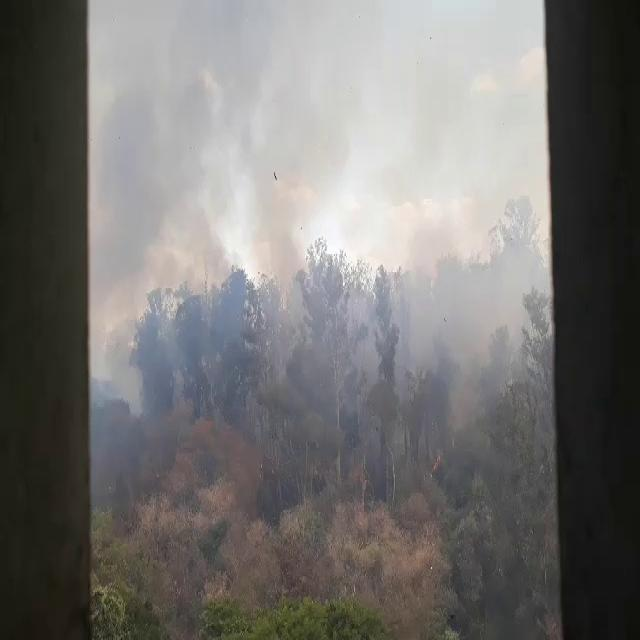Fire: (430, 448, 442, 470)
Smoke: (90, 84, 238, 306), (250, 85, 350, 388), (446, 248, 554, 431), (382, 4, 460, 206), (393, 221, 467, 400), (92, 264, 144, 420), (347, 293, 387, 488), (338, 296, 384, 416), (157, 294, 186, 402)
